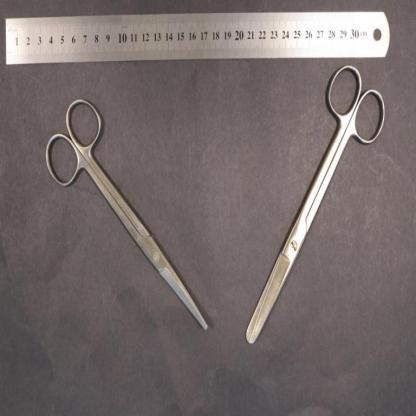Curved Mayo Scissors: (45, 98, 208, 333)
Dressing Scissors: (245, 64, 387, 346)
